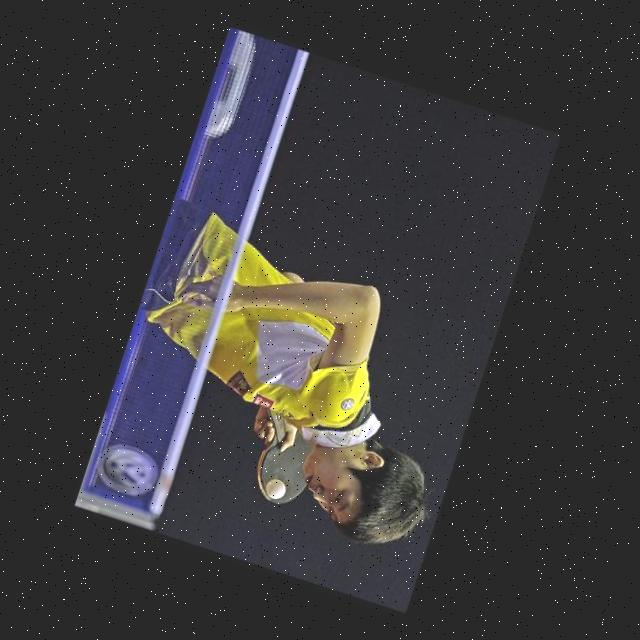ping-pong-ball: (263, 475, 289, 501)
